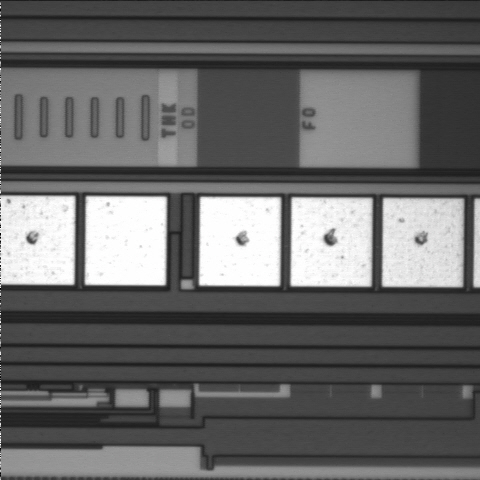pad: (85, 196, 167, 285), (199, 197, 281, 286), (291, 197, 372, 286), (382, 198, 463, 287)
